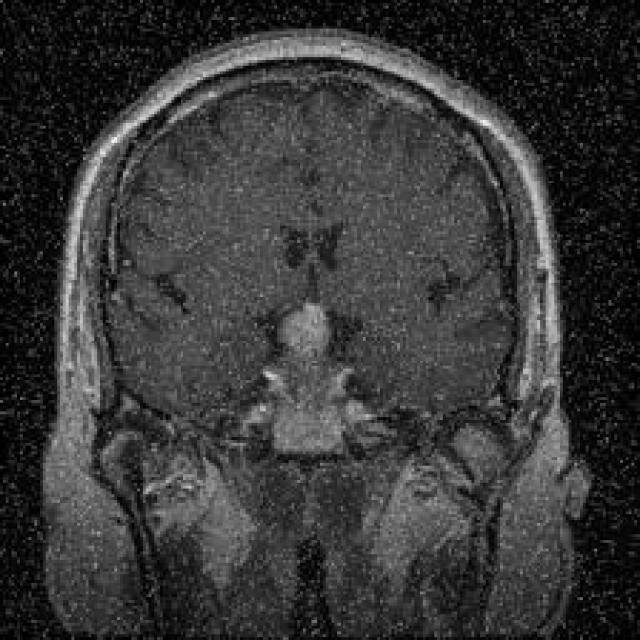pituitary_tumor: (237, 286, 402, 457)
